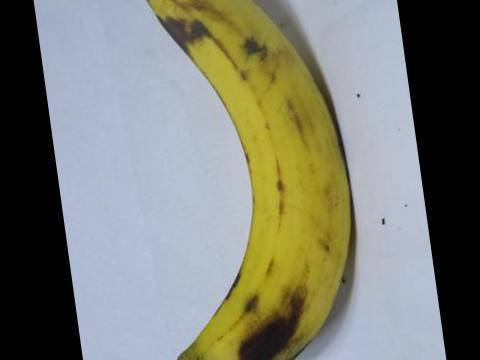ripe: (132, 0, 376, 359)
